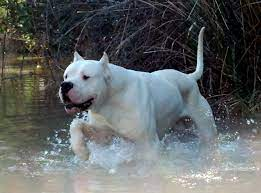dog: (38, 23, 239, 178)
